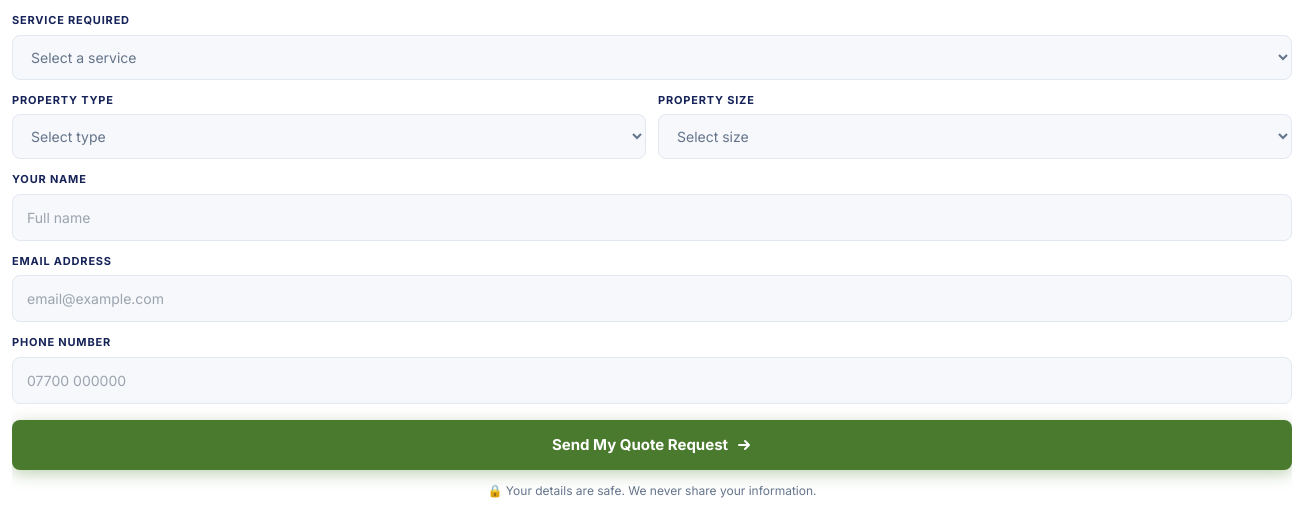
Test: shows success message after submission
The image size is (1304, 515).
Select "Regular Clean" in the dropdown labelled "Service Required" at (652, 57), box x1=12 y1=34 x2=1292 y2=80
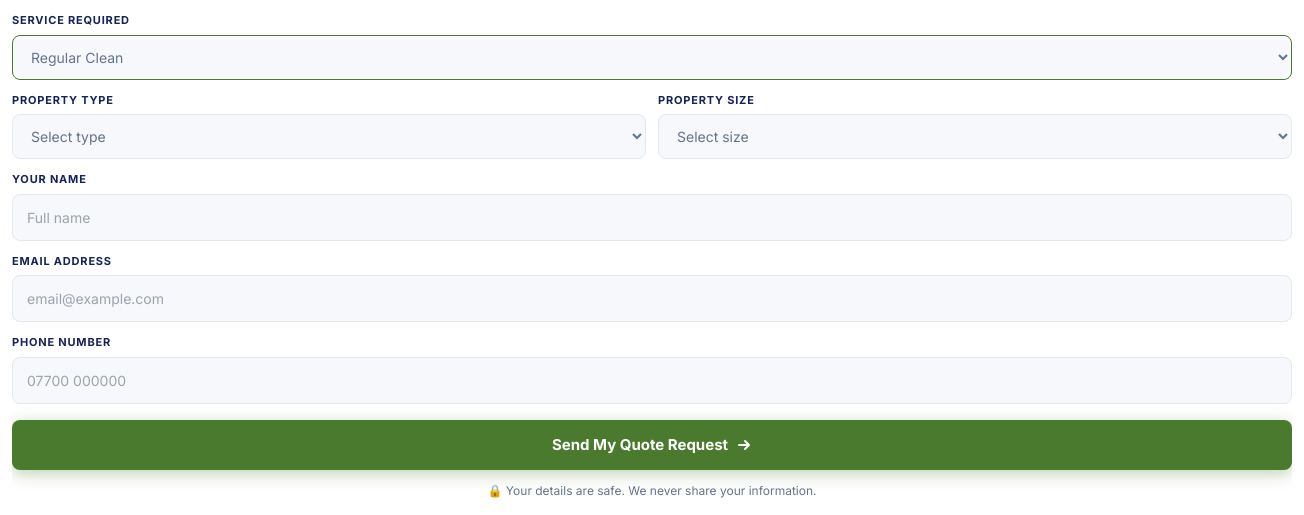
Type "Jane Smith" into the field labelled "Your Name" at (652, 217), box x1=12 y1=194 x2=1292 y2=240
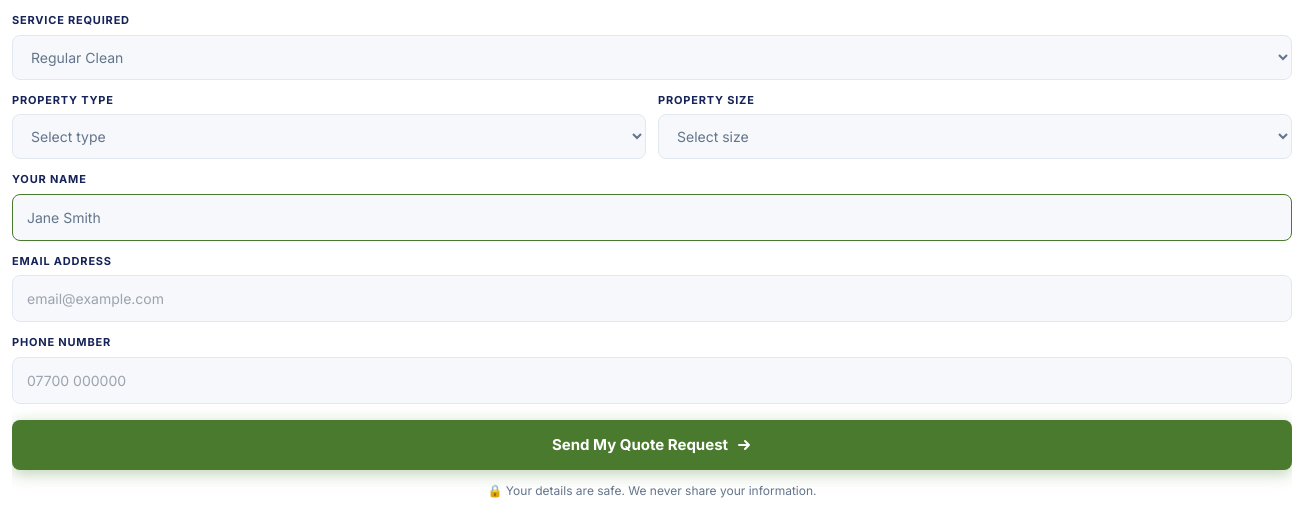
Type "jane@example.com" into the field labelled "Email Address" at (652, 298), box x1=12 y1=275 x2=1292 y2=322
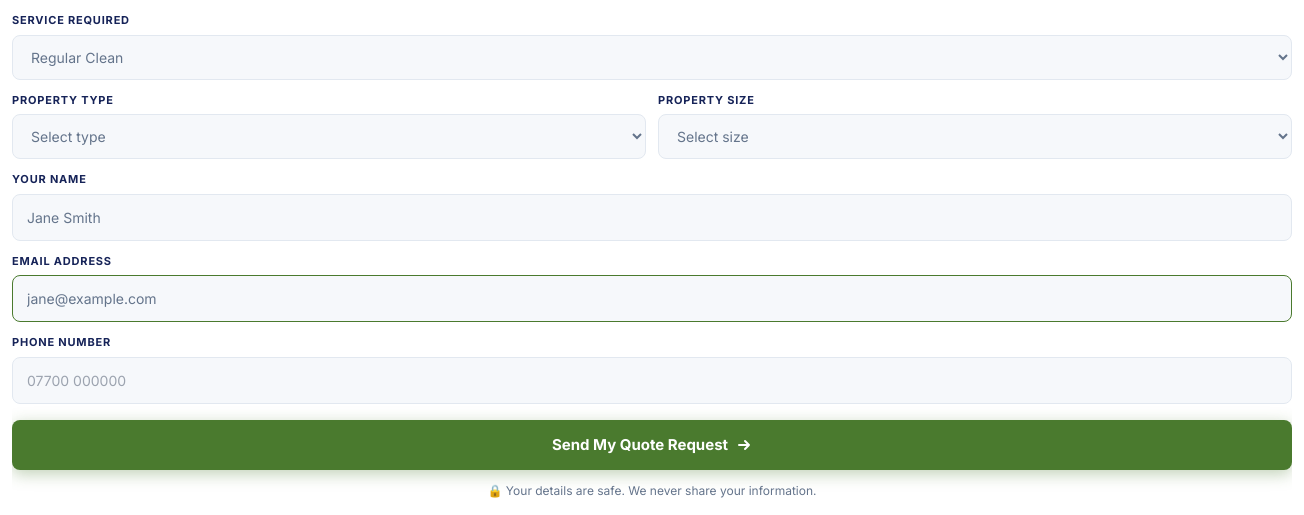
Type "07700123456" into the field labelled "Phone Number" at (652, 380), box x1=12 y1=356 x2=1292 y2=404
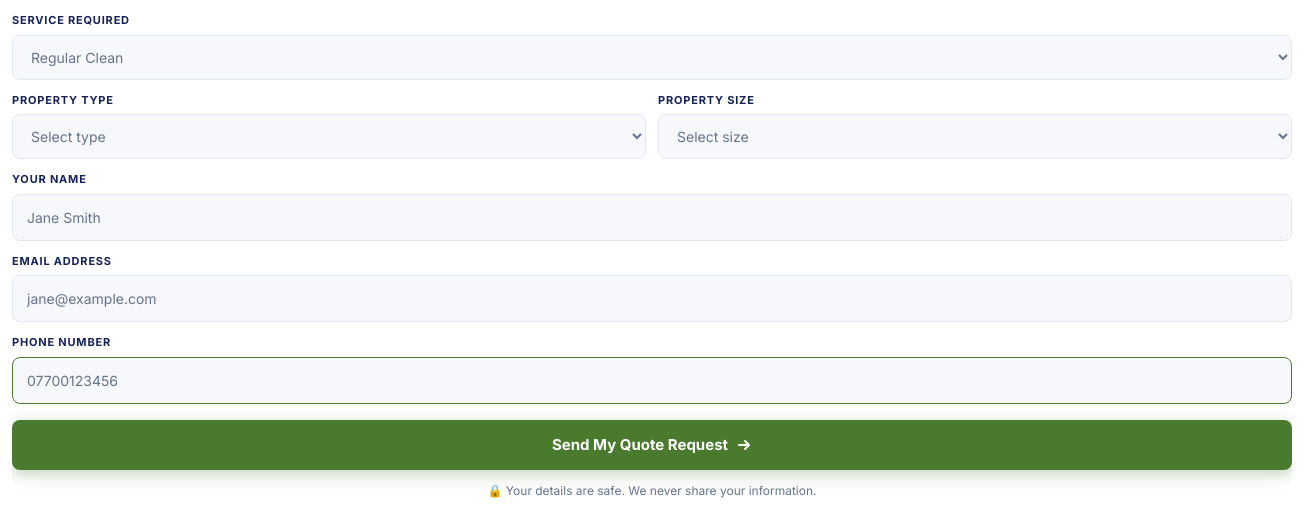
Click the button "Send My Quote Request" at (652, 445), box x1=12 y1=420 x2=1292 y2=470
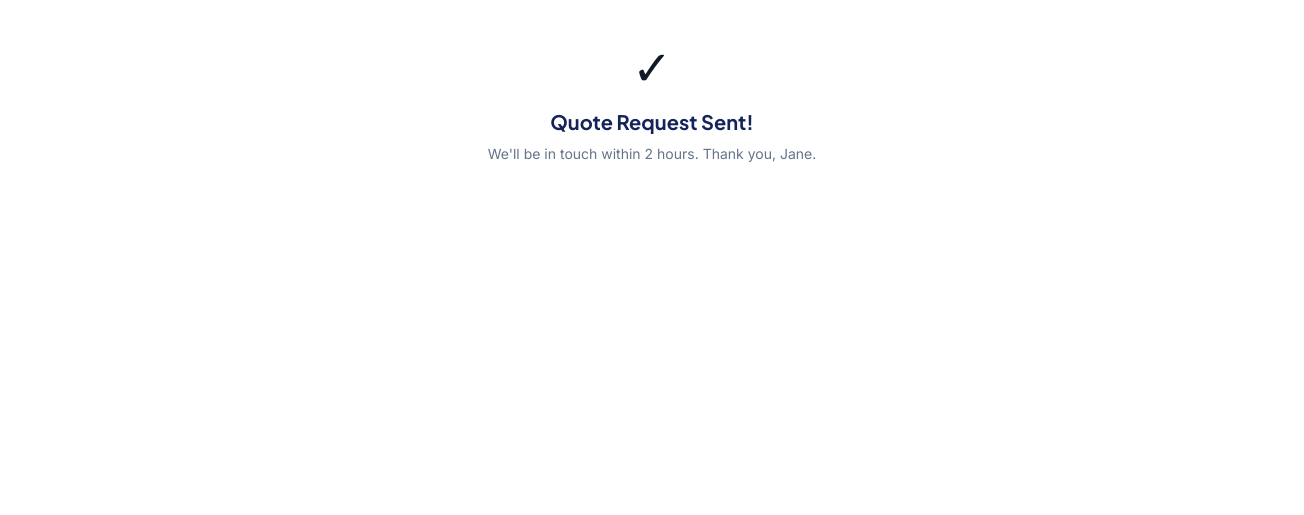
expect the heading "Quote Request Sent!" is shown: met, box x1=550 y1=109 x2=754 y2=134
